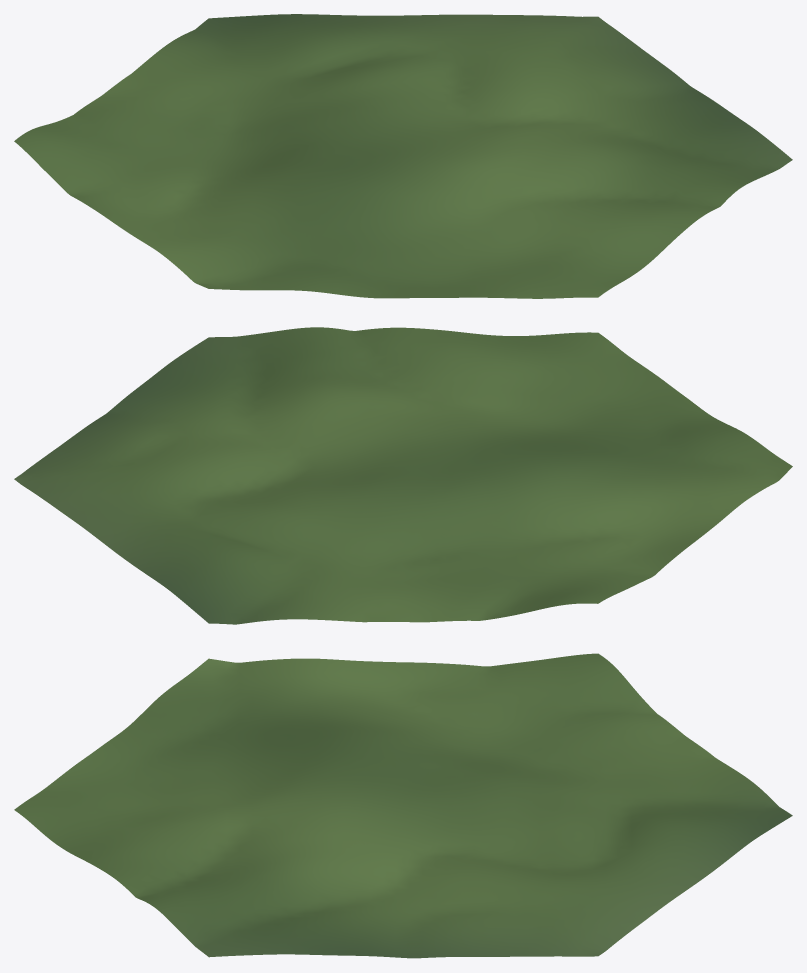
3 renders of one model, top to bottom at view 1: azimuth 30°, elevation 25°; view 2: azimuth 150°, elevation 25°; view 3: azimuth 270°, elevation 25°, orthographic.
Parts seen in each view (by area): view 1: JS_+1_13; view 2: JS_+1_13; view 3: JS_+1_13.
Boxes of the visible parts, x1,y1,x2,y2 form: JS_+1_13: (14, 14, 792, 298); JS_+1_13: (14, 327, 792, 624); JS_+1_13: (14, 653, 792, 958).
Size of the model in its own units: 4330 by 177 by 5000.
